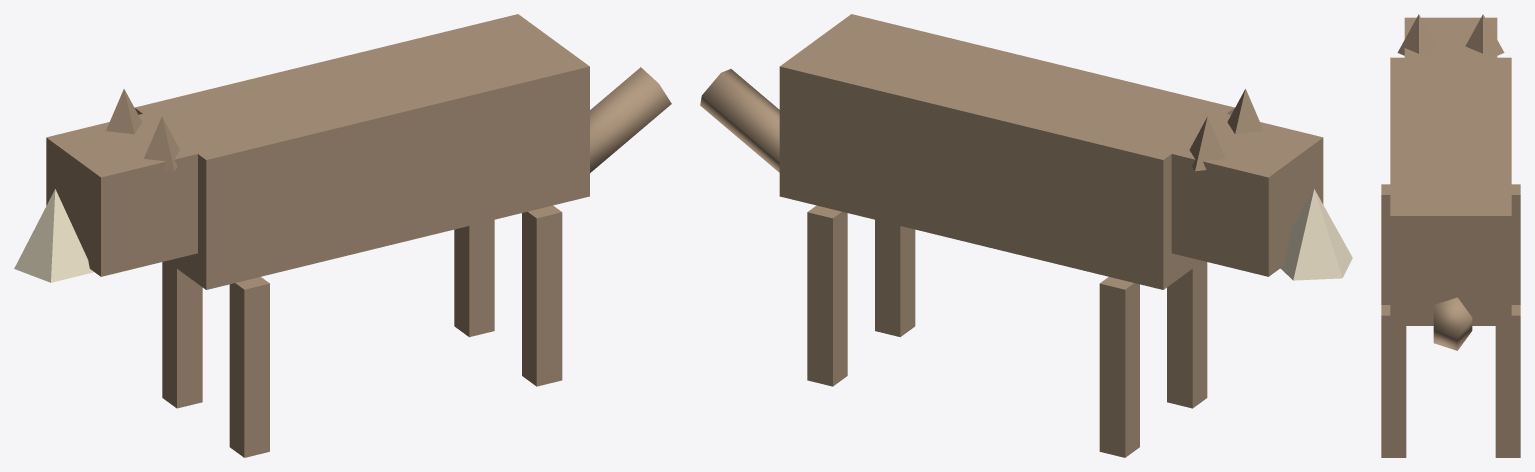
File: wolf.glb
3 views of the same model, side by side, from view 1: azimuth 30°, elevation 25°; view 2: azimuth 150°, elevation 25°; view 3: azimuth 270°, elevation 25° (orthographic). The views are drawn at different scales.
Parts seen in each view (by area): view 1: wolf_hide-dark, wolf_pale; view 2: wolf_hide-dark, wolf_pale; view 3: wolf_hide-dark.
Boxes of the visible parts, left/top/right/bottom form: wolf_hide-dark: left=46, top=14, right=671, bottom=457; wolf_pale: left=14, top=189, right=93, bottom=282; wolf_hide-dark: left=700, top=14, right=1323, bottom=457; wolf_pale: left=1280, top=189, right=1352, bottom=280; wolf_hide-dark: left=1381, top=14, right=1520, bottom=457.
Bounding box in the file's own units: 0.5885 × 0.2967 × 0.13.
